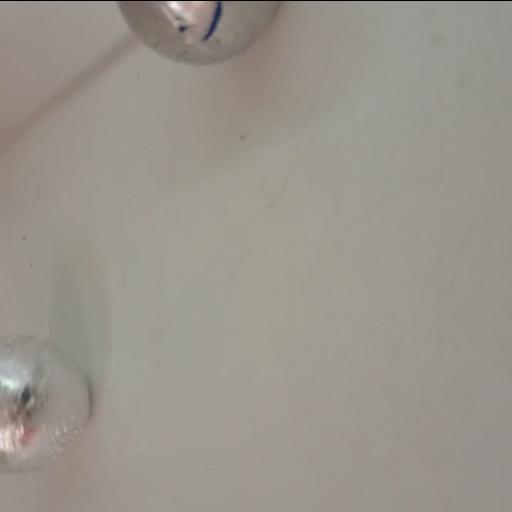alive: (0, 336, 90, 475), (112, 0, 284, 66)
